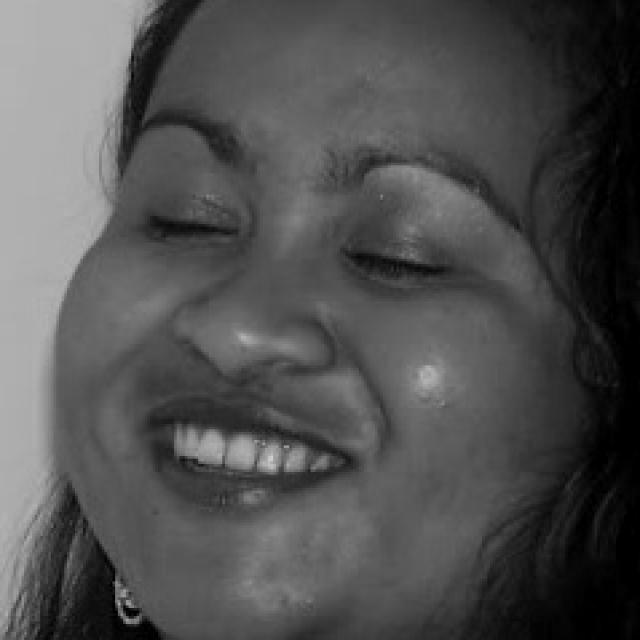real: (52, 0, 606, 640), (112, 175, 488, 299)
